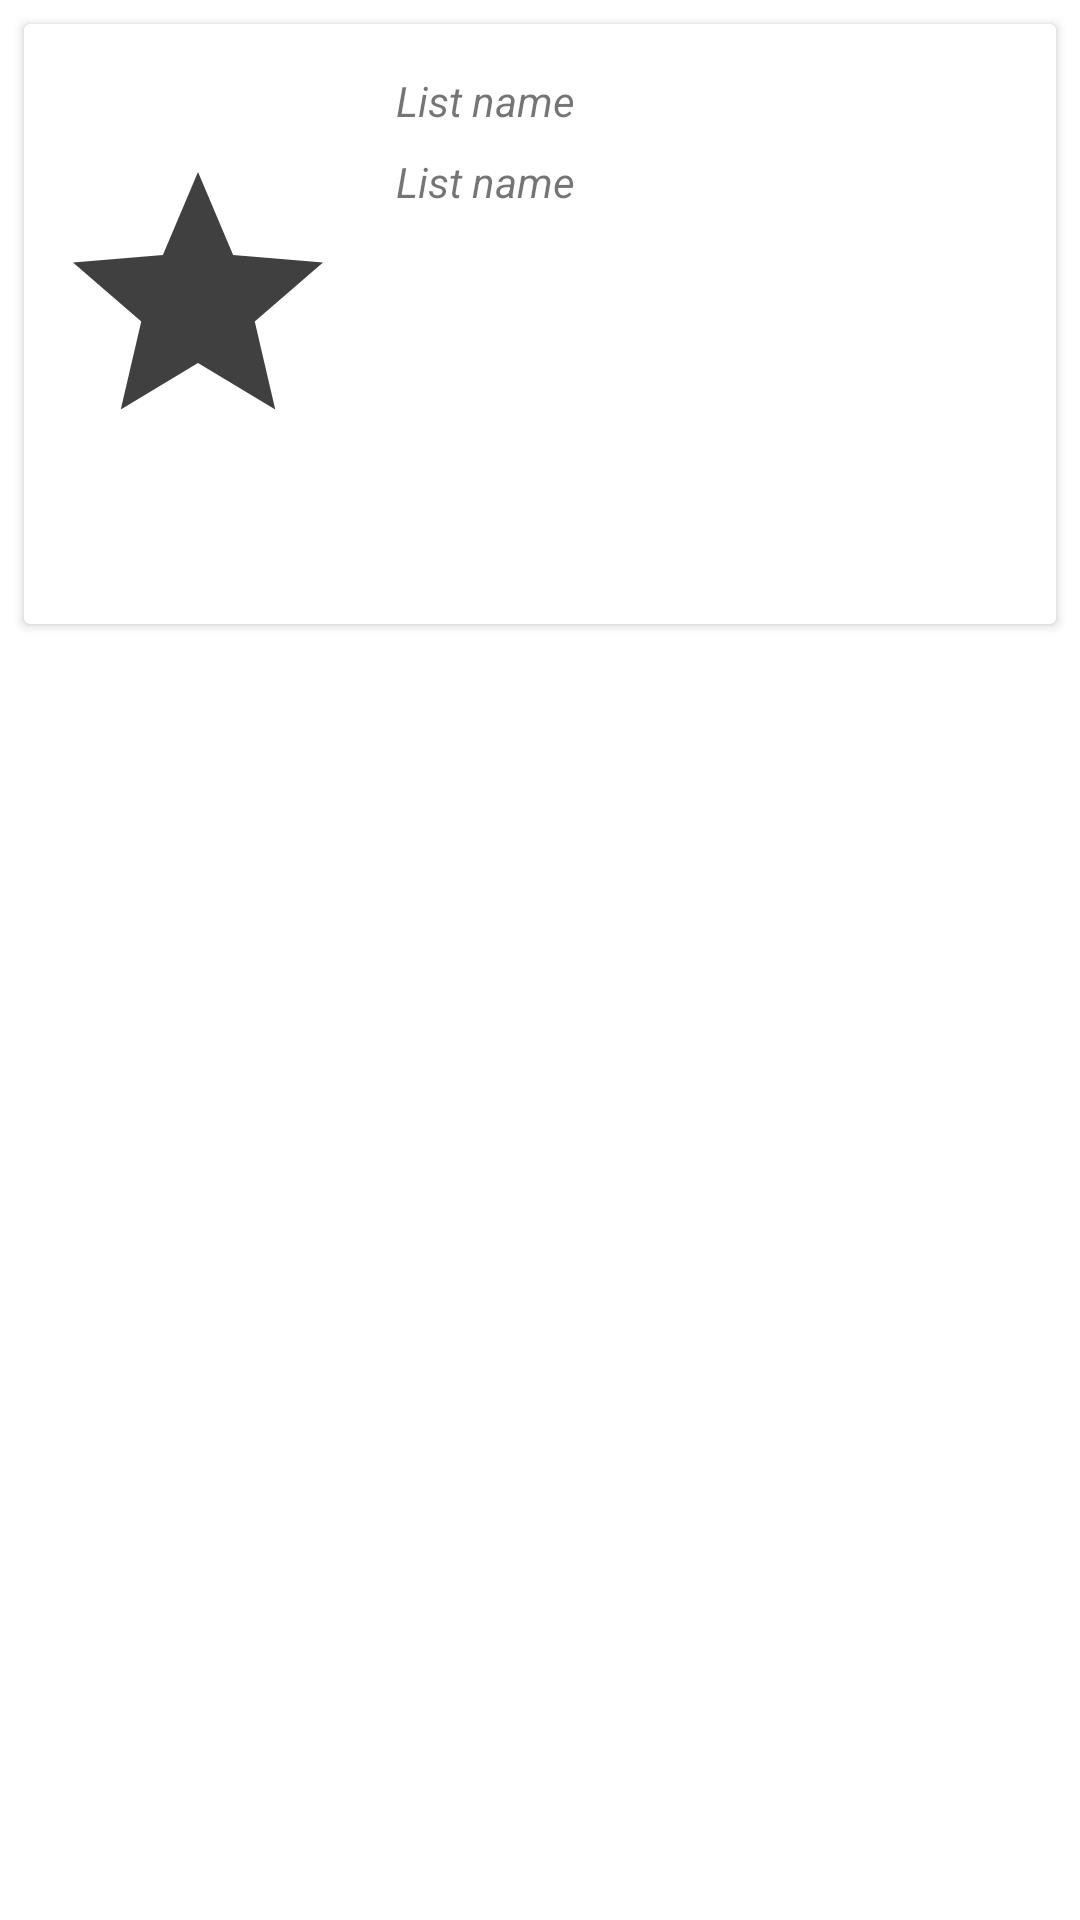

Screen size 1080px×1920px. Icon name, then its box in pixels as (x1, y1, x2, y2):
favourite: (73, 172, 323, 409)
